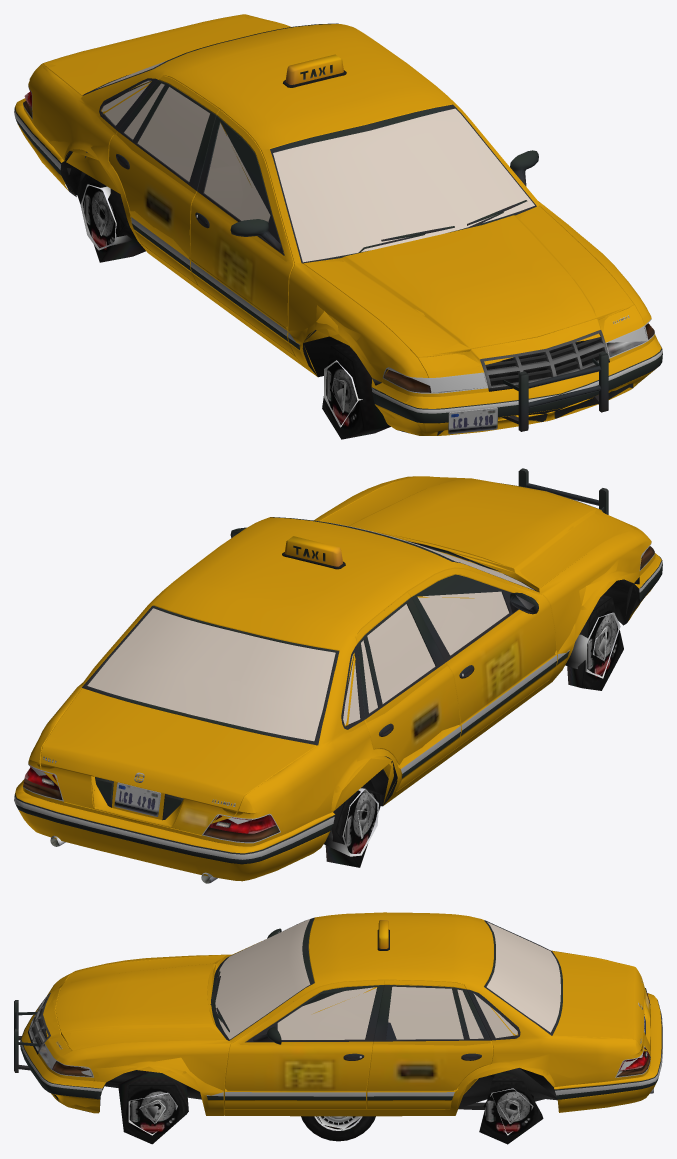
The model's file is taxi.glb.
The picture shows the model from 3 angles, top to bottom: view 1: azimuth 30°, elevation 25°; view 2: azimuth 150°, elevation 25°; view 3: azimuth 270°, elevation 25°; orthographic projection. The views are drawn at different scales.
Parts seen in each view (by area): view 1: kit0, glass1, glass0, far, kit1; view 2: kit0, glass0, glass1, kit1, far; view 3: kit0, glass0, far, kit1, glass1, wheel0.
Part boxes in pixels (bbox=[...]): kit0: bbox=[14, 14, 662, 435]; glass1: bbox=[101, 61, 531, 260]; glass0: bbox=[97, 68, 534, 262]; far: bbox=[64, 34, 656, 439]; kit1: bbox=[15, 14, 661, 435]; kit0: bbox=[14, 468, 662, 883]; glass0: bbox=[43, 522, 533, 826]; glass1: bbox=[47, 548, 524, 825]; kit1: bbox=[16, 471, 658, 883]; far: bbox=[29, 477, 645, 867]; kit0: bbox=[14, 912, 662, 1116]; glass0: bbox=[215, 919, 646, 1055]; far: bbox=[32, 931, 650, 1144]; kit1: bbox=[15, 917, 655, 1115]; glass1: bbox=[215, 920, 646, 1054]; wheel0: bbox=[301, 1116, 375, 1141].
Bounding box in the file's own units: 2.09 × 1.85 × 5.21.
1 material, 1 textured.
